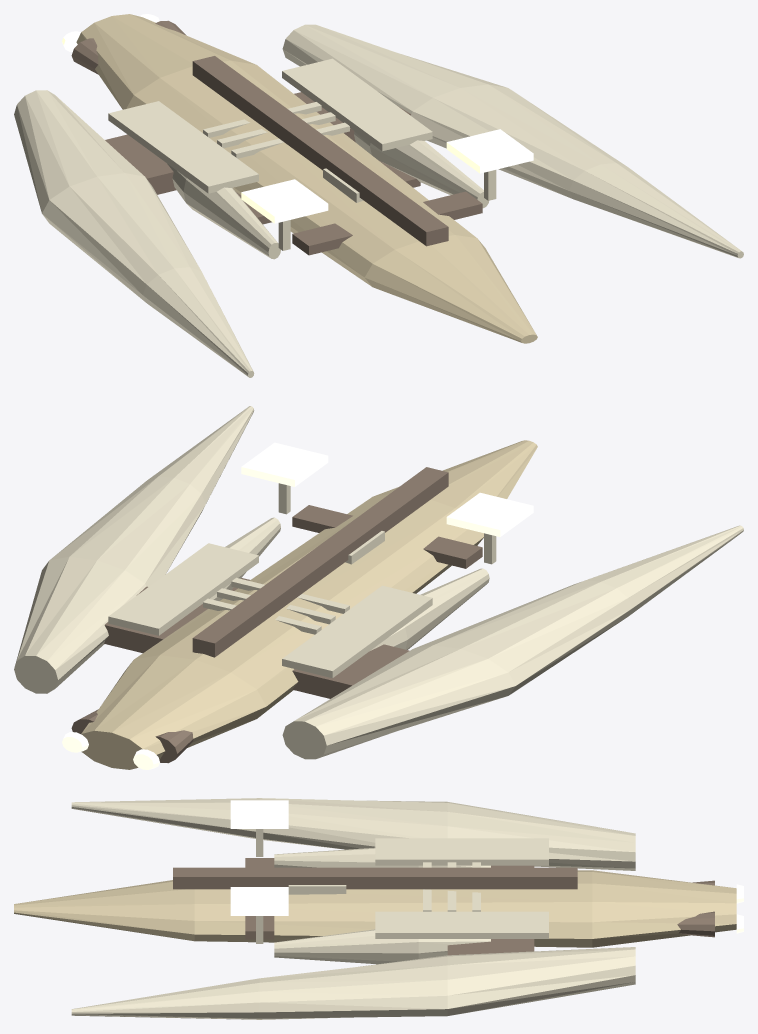
3 views of the same model, one above another, from view 1: azimuth 30°, elevation 25°; view 2: azimuth 150°, elevation 25°; view 3: azimuth 270°, elevation 25° (orthographic). The views are drawn at different scales.
Bounding box in the file's own units: 7.41 × 1.31 × 10.91.
